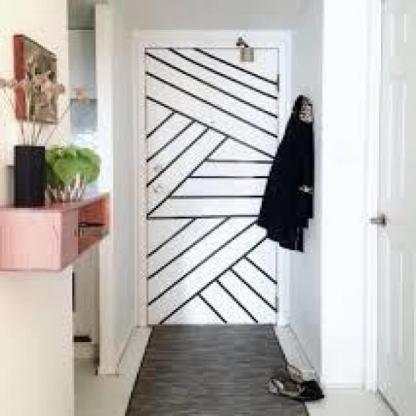door: (125, 18, 297, 360)
